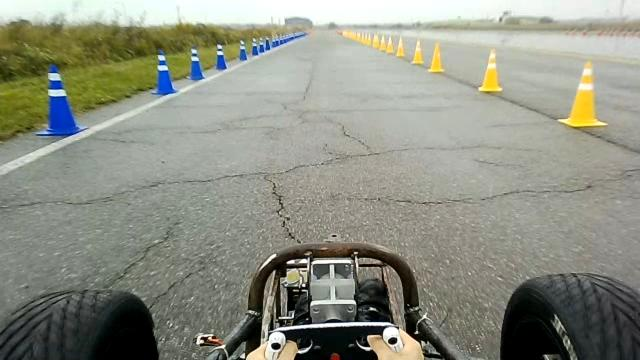blue cone: (35, 62, 88, 138), (150, 49, 178, 96), (185, 46, 205, 80), (215, 43, 228, 70), (238, 39, 248, 61), (251, 37, 259, 56), (258, 36, 265, 53)
yellow cone: (557, 60, 608, 128), (478, 48, 503, 93), (428, 42, 444, 73), (411, 39, 424, 64), (396, 36, 406, 58), (385, 35, 394, 54), (378, 35, 386, 51)
